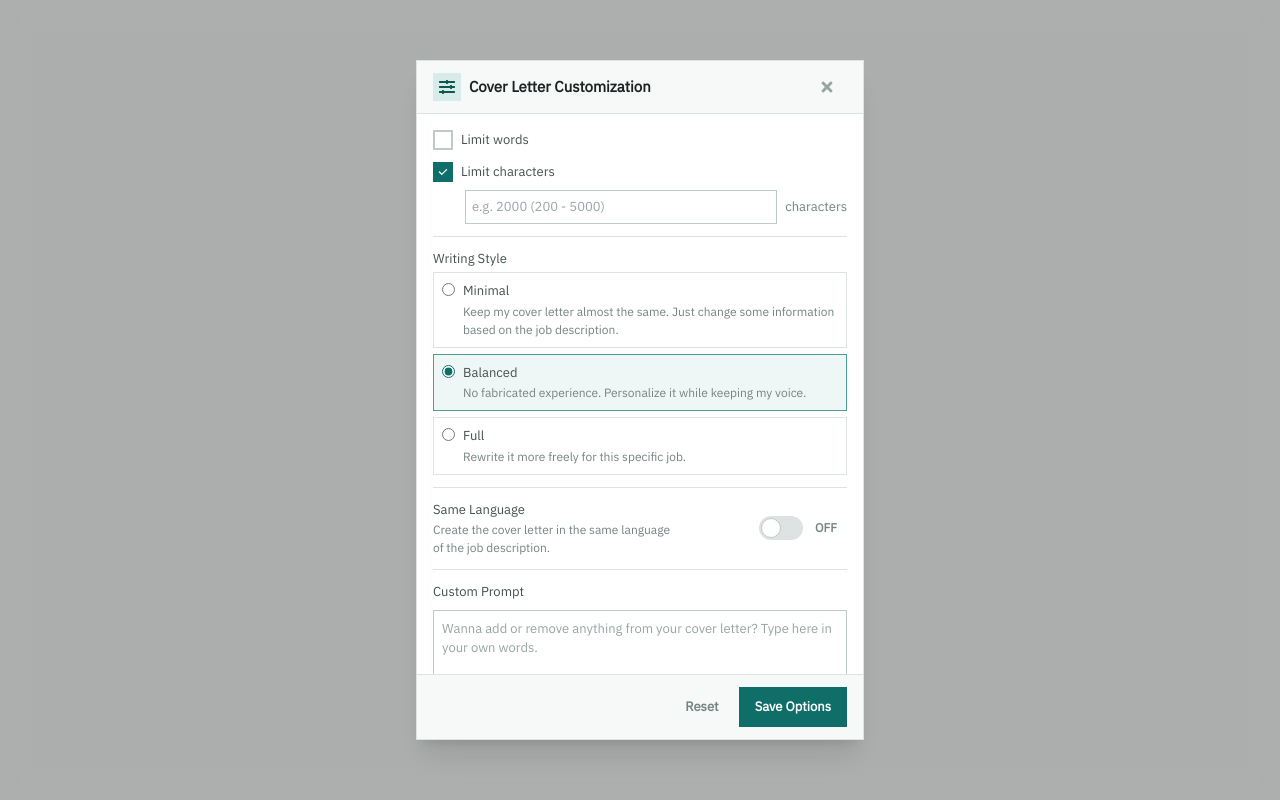
CustomizeModal › blocks save when limitCharacters is enabled but left empty (no silent default)
Click the button "Save Options". click: (793, 707)
box: 739,687 -> 847,727
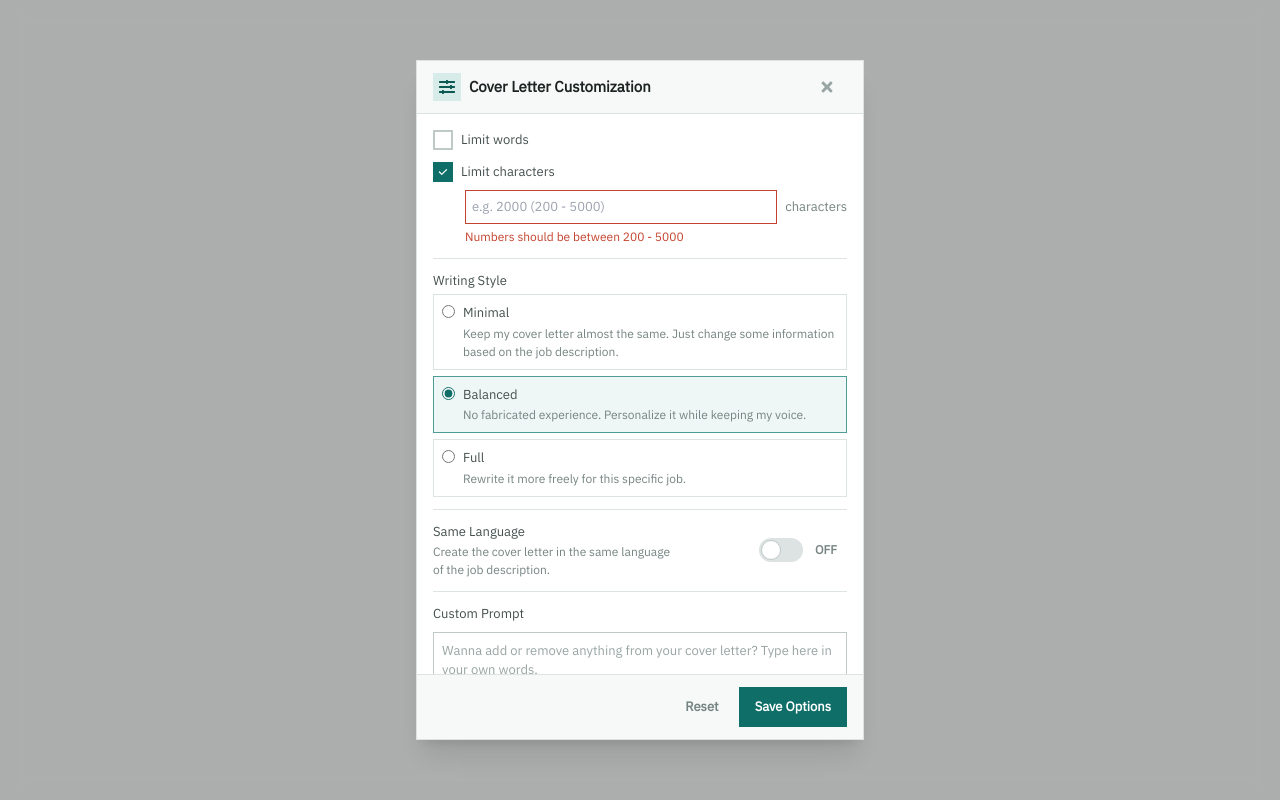
Now the text "Numbers should be between 200 - 5000" is shown, box 465,228 -> 684,244
